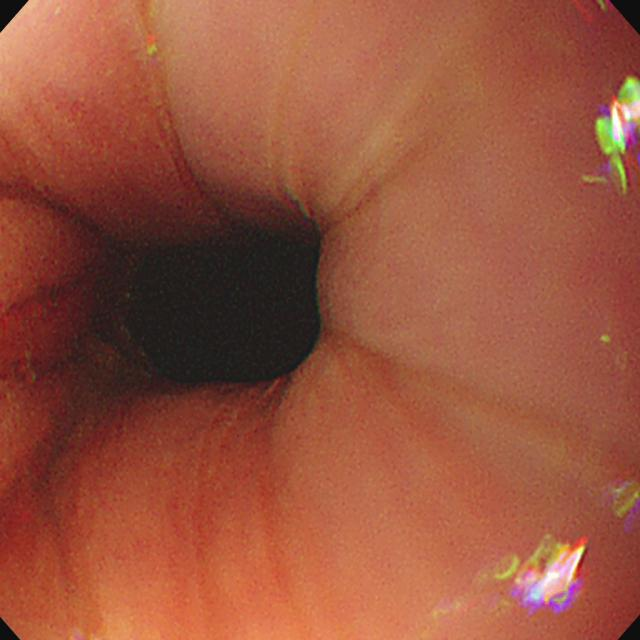E: (123, 233, 323, 384)
U: (495, 534, 588, 617), (597, 79, 640, 194)
